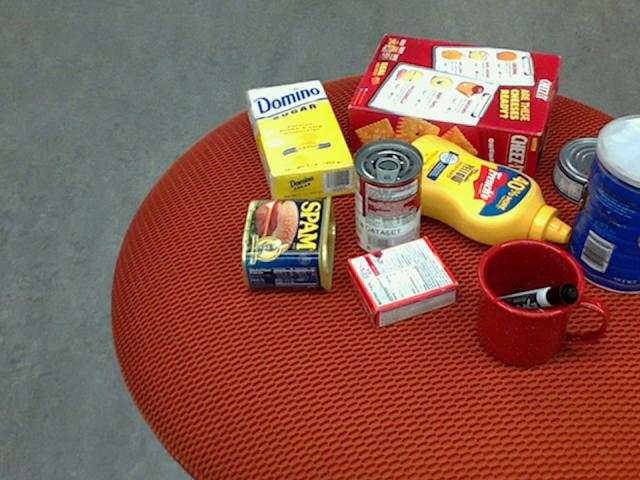cracker_box: (347, 33, 558, 176)
gelatin_box: (343, 238, 457, 329)
large_marker: (487, 280, 578, 315)
master_chef_can: (565, 114, 639, 294)
mug: (475, 237, 604, 366)
mustard_bottle: (383, 134, 570, 246)
potted_meat_can: (240, 194, 334, 290)
sugar_box: (245, 78, 356, 206)
tomato_soup_can: (351, 136, 422, 256)
tuna_fish_can: (551, 135, 635, 206)
